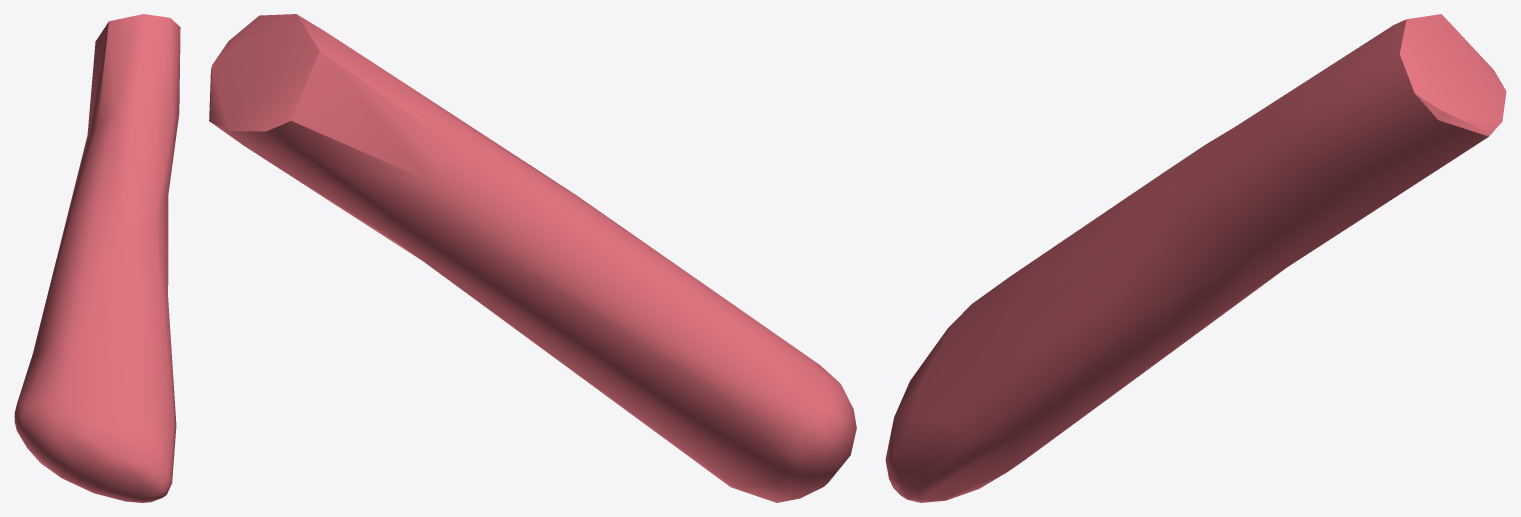
File: fma5039_fj2276.glb
3 views of the same model, side by side, from view 1: azimuth 30°, elevation 25°; view 2: azimuth 150°, elevation 25°; view 3: azimuth 270°, elevation 25° (orthographic). The views are drawn at different scales.
Parts seen in each view (by area): view 1: FMA5039_FJ2276; view 2: FMA5039_FJ2276; view 3: FMA5039_FJ2276.
Boxes of the visible parts, <box> form: FMA5039_FJ2276: <box>14,14,180,502</box>; FMA5039_FJ2276: <box>209,14,856,502</box>; FMA5039_FJ2276: <box>885,14,1506,502</box>.
Size of the model in its own units: 0.00675 by 0.00831 by 0.00784.
